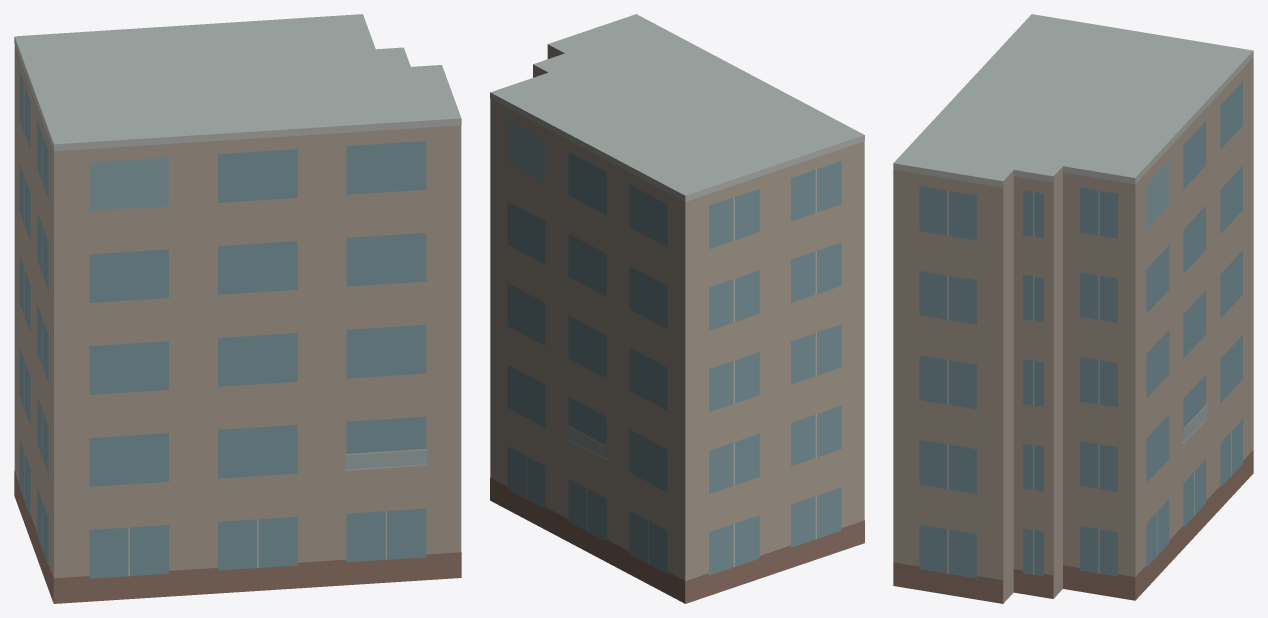
File: survey-upis-32880896.glb
The picture shows the model from 3 angles, left to right: view 1: azimuth 30°, elevation 25°; view 2: azimuth 150°, elevation 25°; view 3: azimuth 270°, elevation 25°; orthographic projection. The views are drawn at different scales.
Visible parts, largest first — view 1: survey-upis-32880896.tmp; view 2: survey-upis-32880896.tmp; view 3: survey-upis-32880896.tmp.
Boxes of the visible parts, x1=… form: survey-upis-32880896.tmp: x1=14, y1=14, x2=461, y2=603; survey-upis-32880896.tmp: x1=490, y1=14, x2=864, y2=603; survey-upis-32880896.tmp: x1=893, y1=14, x2=1253, y2=603.
Size of the model in its own units: 13.67 by 16.1 by 12.45.
